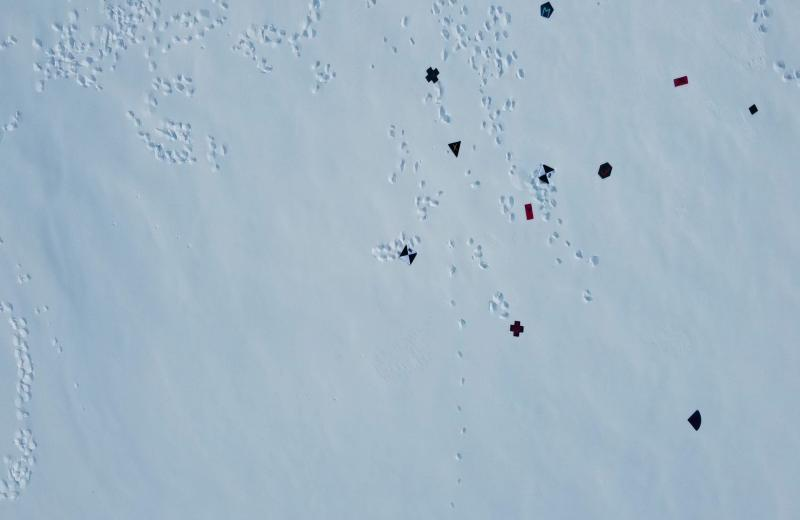Cross: (424, 67, 441, 84), (508, 320, 524, 338)
Hexagon: (596, 162, 614, 179)
Pentagon: (538, 1, 555, 19)
Quarter Circle: (688, 409, 704, 431)
Rectangle: (522, 202, 536, 220), (672, 77, 688, 88)
Square: (748, 104, 758, 115)
Triangle: (446, 138, 462, 158)
